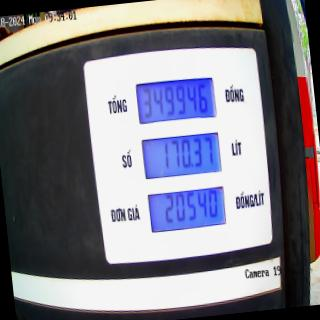screen: (132, 72, 230, 236)
